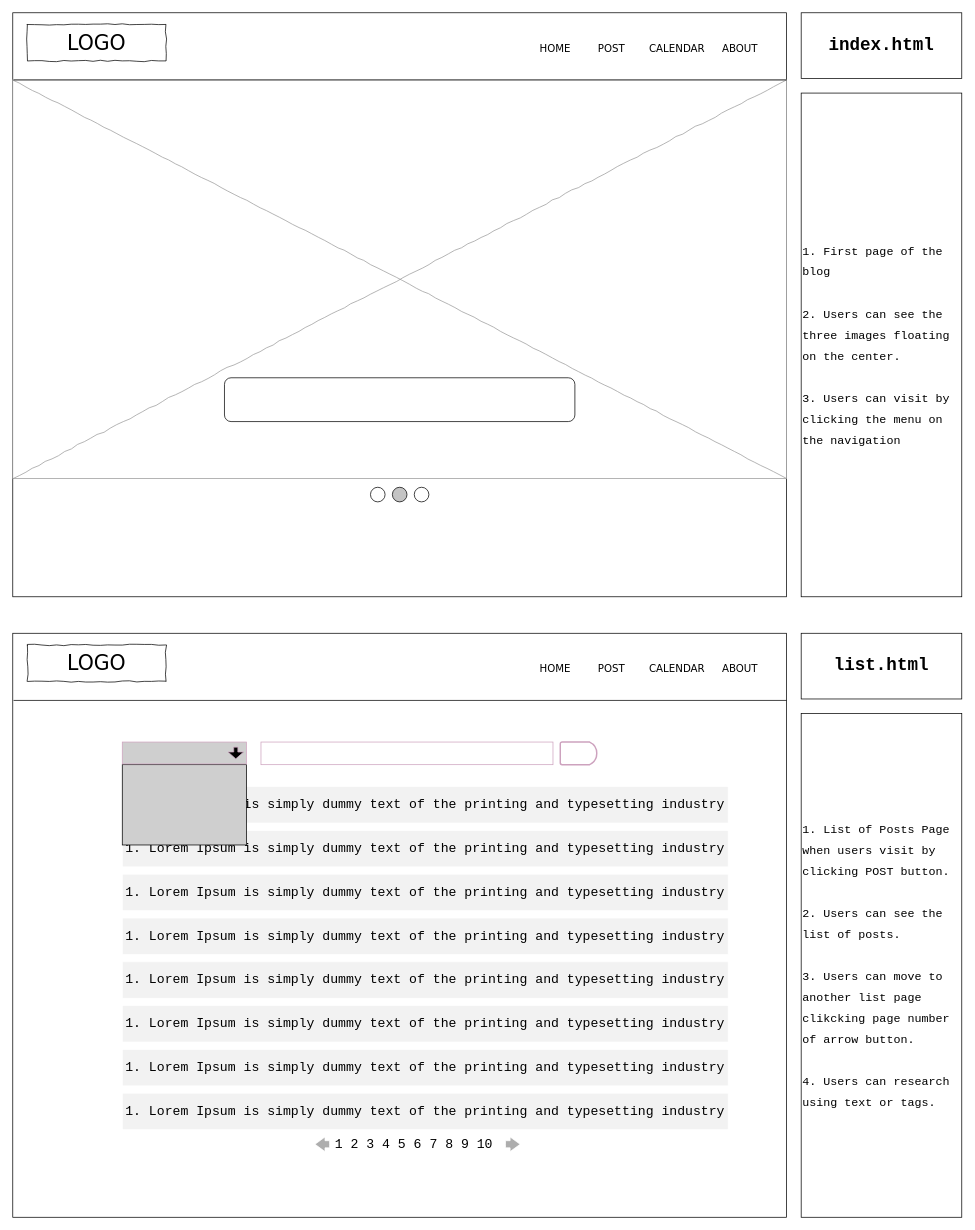
The diagram is 975 pixels wide and 1230 high, and some of its shapes have lost their labels. Each missing label, with the centre of its shape:
"input text" belongs at (x=406, y=753).
"Search" belongs at (x=578, y=753).
"tag 1 tag 2 tag 3 tag 4" belongs at (x=184, y=804).
"Welcome Welcome Welcome Welcome" belongs at (x=399, y=399).
